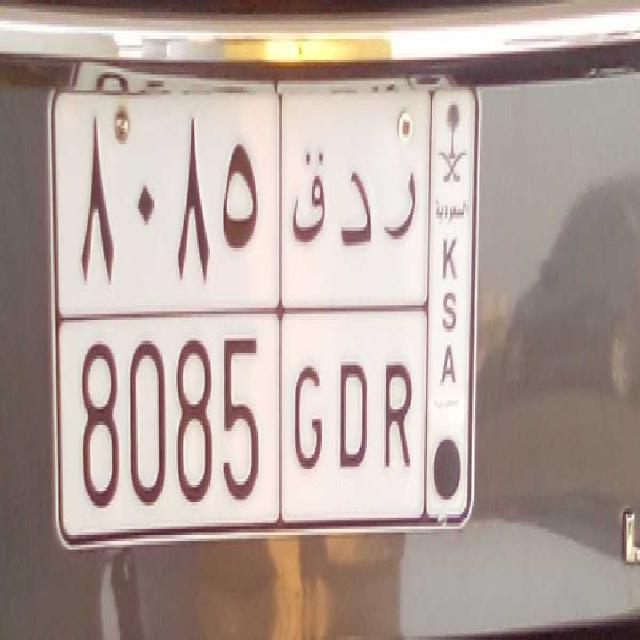license_plate: (64, 304, 422, 532)
